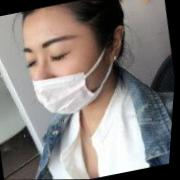WRONG: (17, 14, 117, 120)
